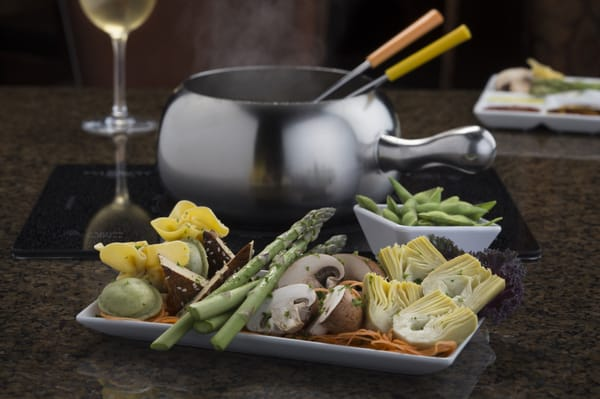sushi: (352, 201, 504, 258)
